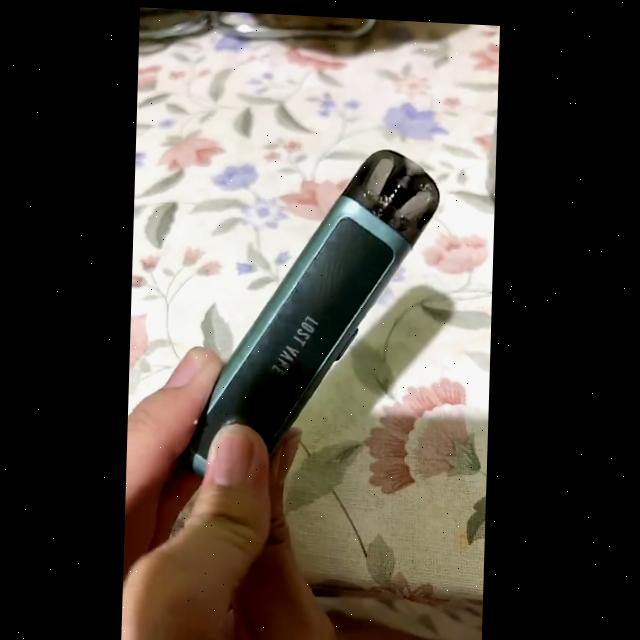vape: (175, 135, 444, 485)
